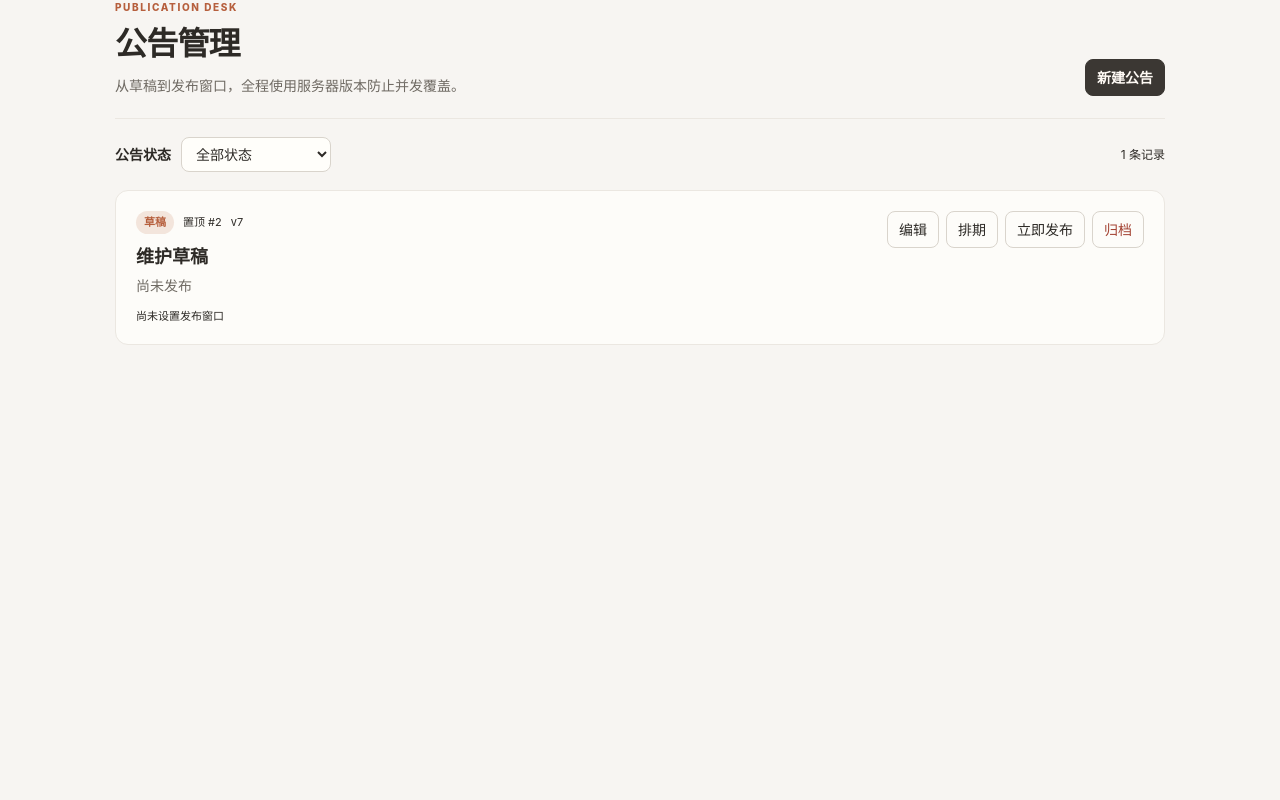
Scenario: AnnouncementManagement › closes lifecycle controls when a conflicting announcement was archived
Expected: the heading "维护草稿" is shown, [136,246,208,266]
Click the button with aria-label "排期 维护草稿" at [972, 230], box [946,211,998,248]
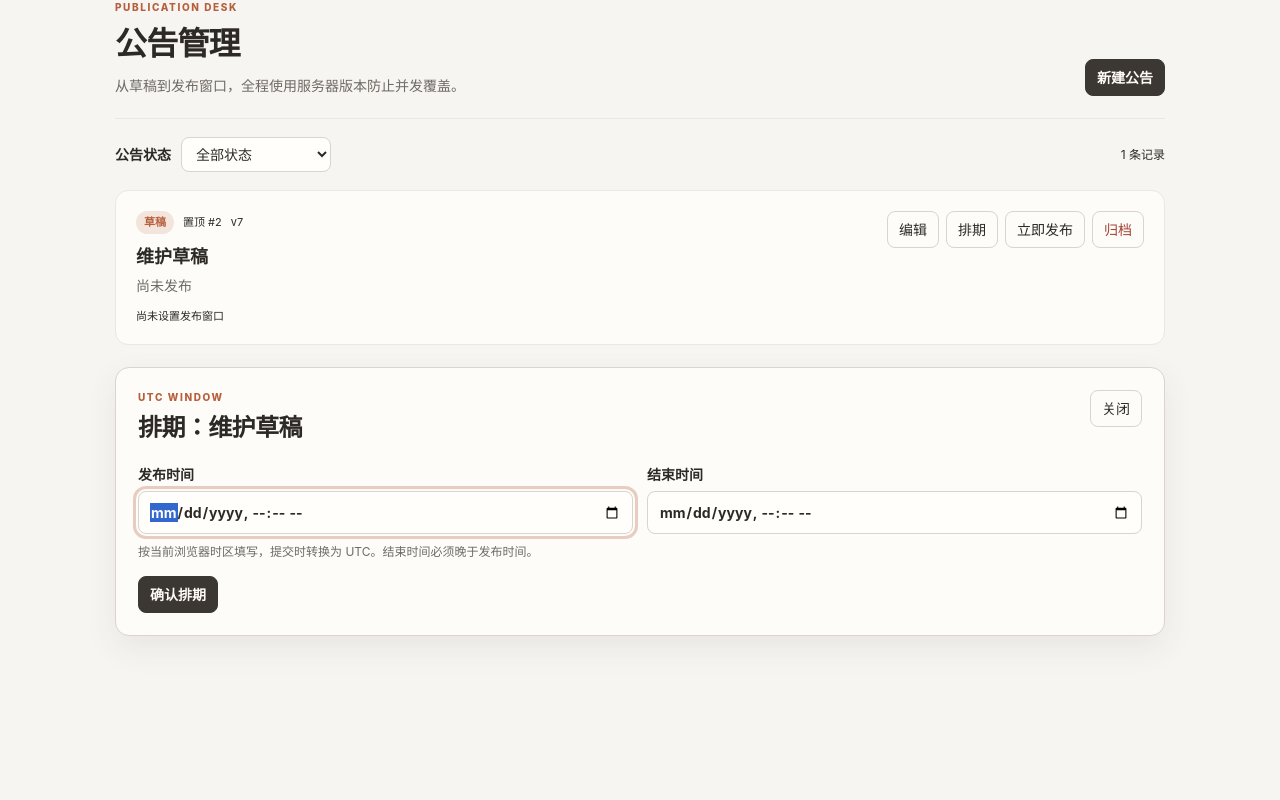
Type "2026-07-21T10:00" into the field labelled "发布时间" at [386, 512], box [138,491,633,534]
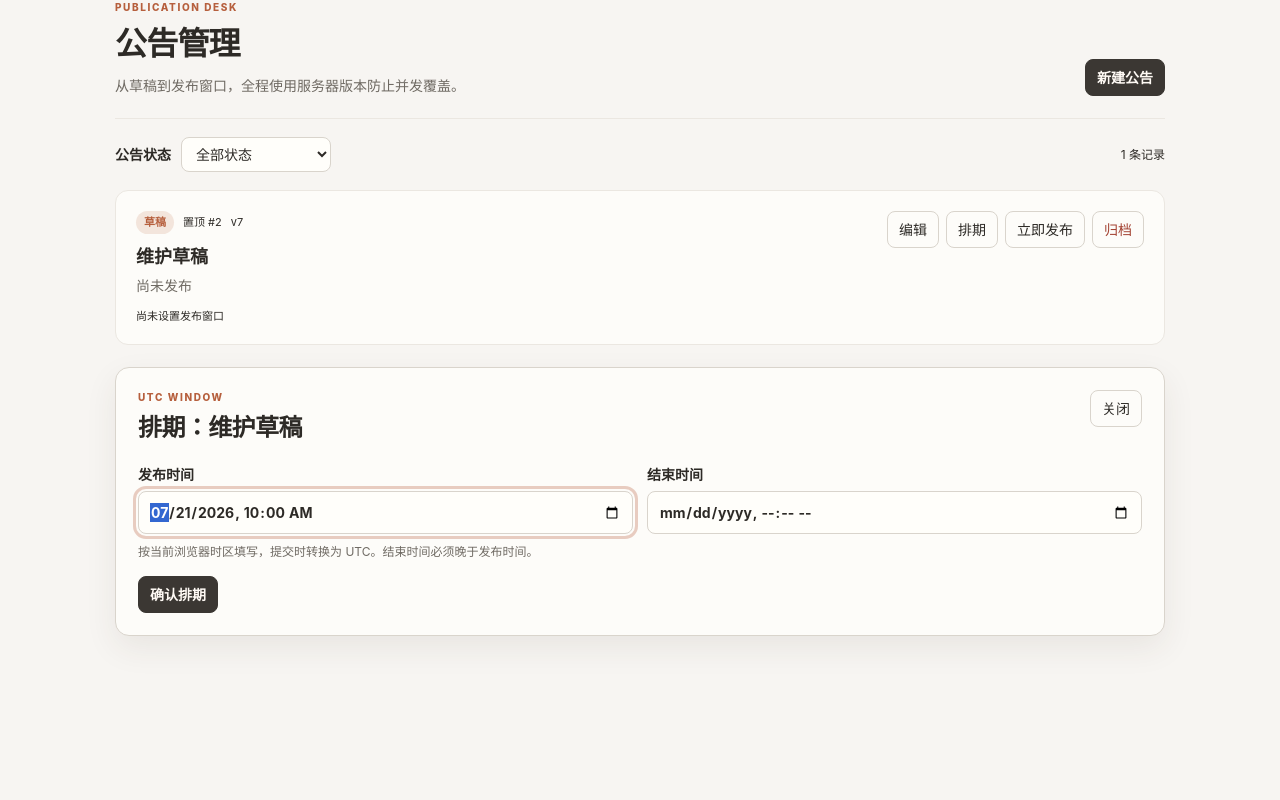
Click the button "确认排期" at [178, 594], box [138,576,218,613]
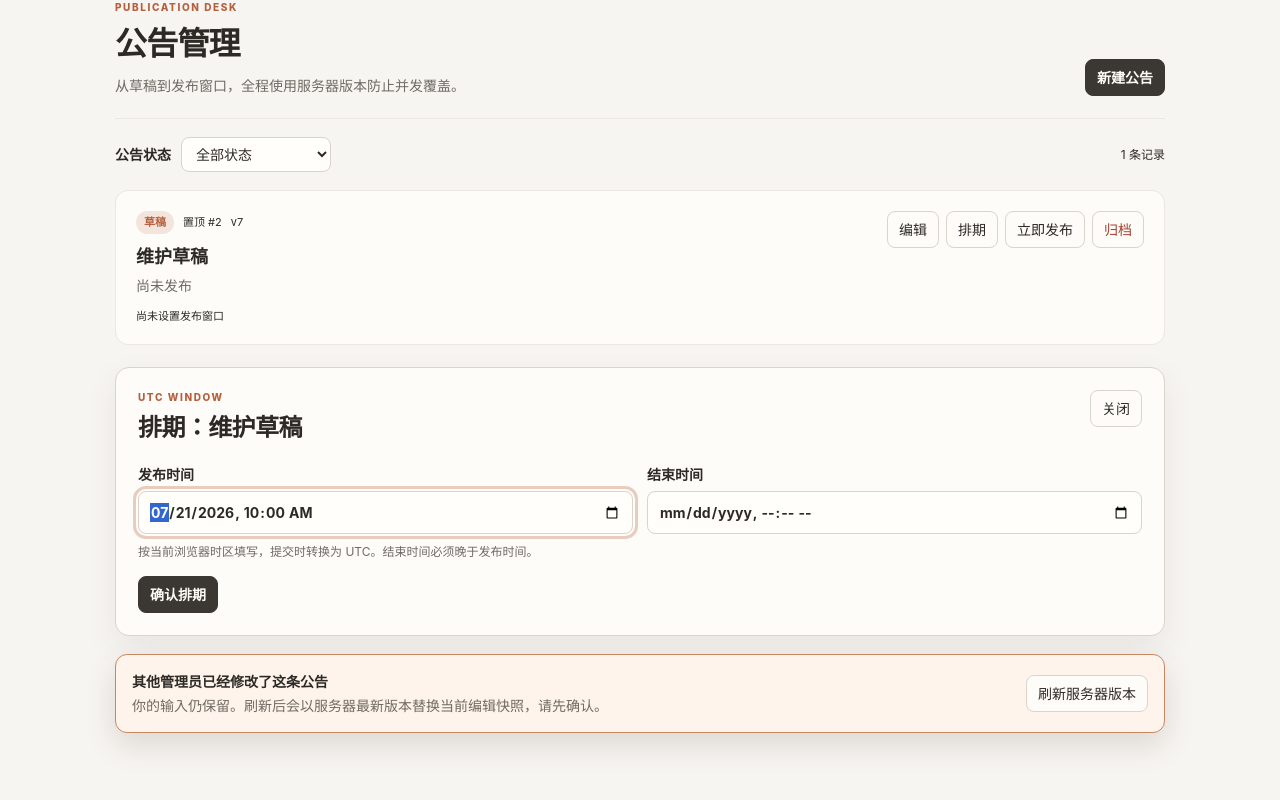
Expected: the text "其他管理员已经修改了这条公告" is shown, [132,673,328,690]
Click the button "刷新服务器版本" at [1087, 694], box [1026,675,1148,712]
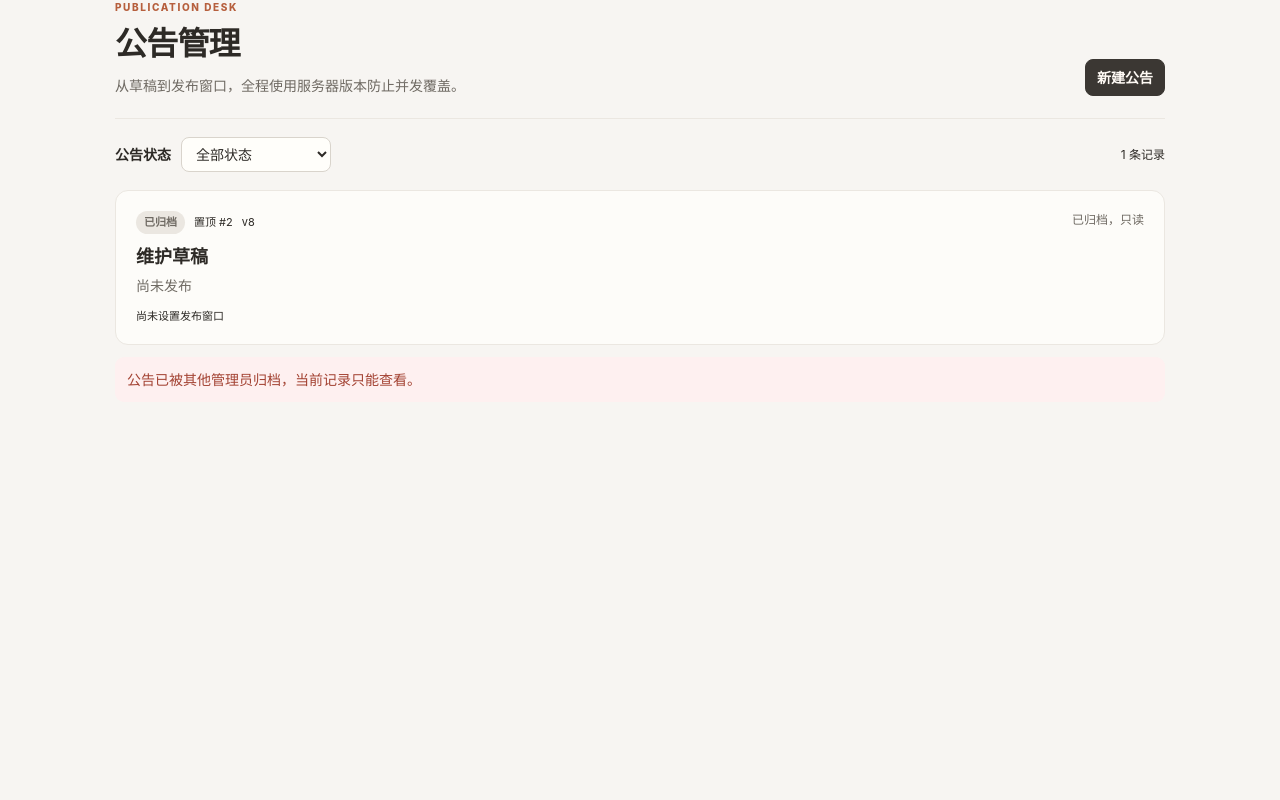
Expected: the form "公告排期" is gone
Expected: the text "公告已被其他管理员归档，当前记录只能查看。" is shown, [115,357,1165,402]
